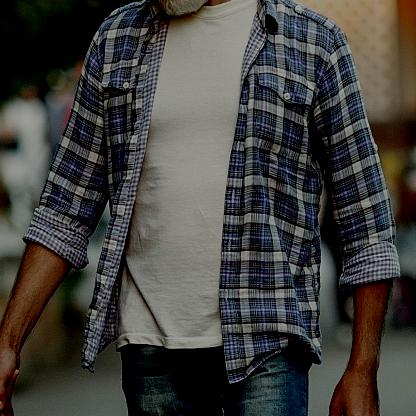dress: (38, 0, 402, 380)
